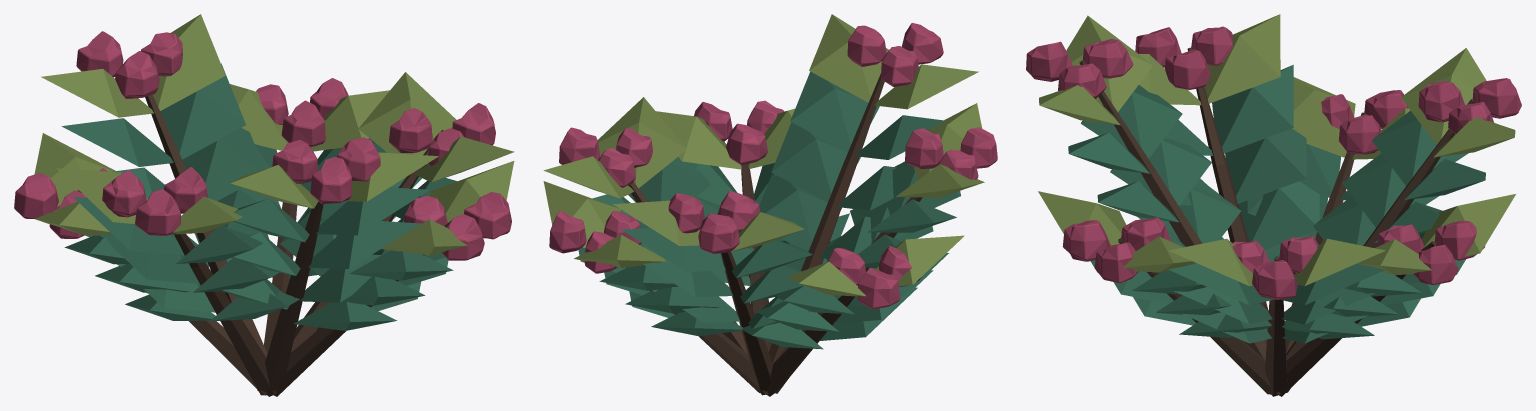
File: berry_shrub.glb
3 views of the same model, side by side, from view 1: azimuth 30°, elevation 25°; view 2: azimuth 150°, elevation 25°; view 3: azimuth 270°, elevation 25° (orthographic). The views are drawn at different scales.
Parts seen in each view (by area): view 1: berry_shrub; view 2: berry_shrub; view 3: berry_shrub.
Boxes of the visible parts, left/top/right/bottom form: berry_shrub: left=14, top=14, right=514, bottom=396; berry_shrub: left=543, top=14, right=997, bottom=396; berry_shrub: left=1026, top=14, right=1521, bottom=396.
Bounding box in the file's own units: 1.33 × 0.9545 × 1.31.
